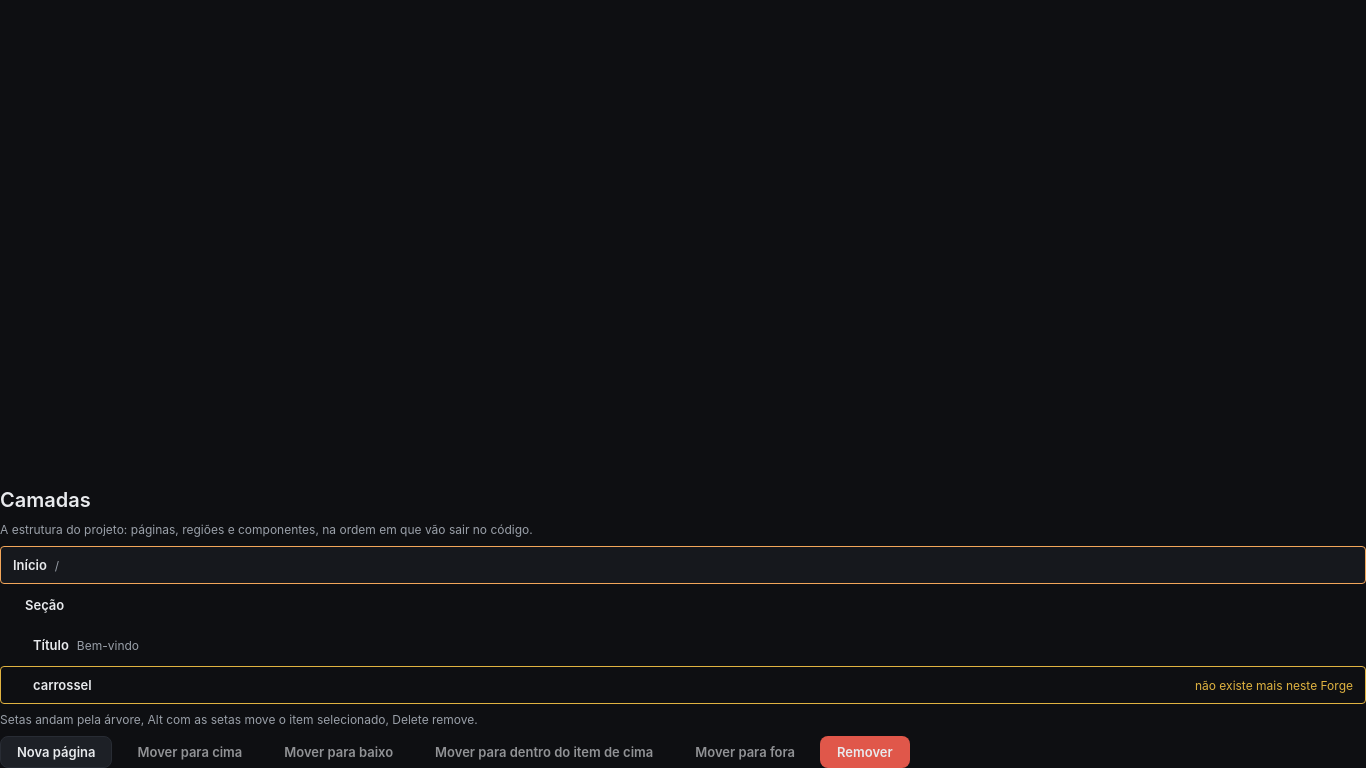
Scenario: remoção › cancelar fecha a pergunta sem remover nada
The width and height of the screenshot is (1366, 768).
(page scrolled)
Press Delete in the list item "Seção", box x1=25 y1=597 x2=64 y2=613
(page scrolled)
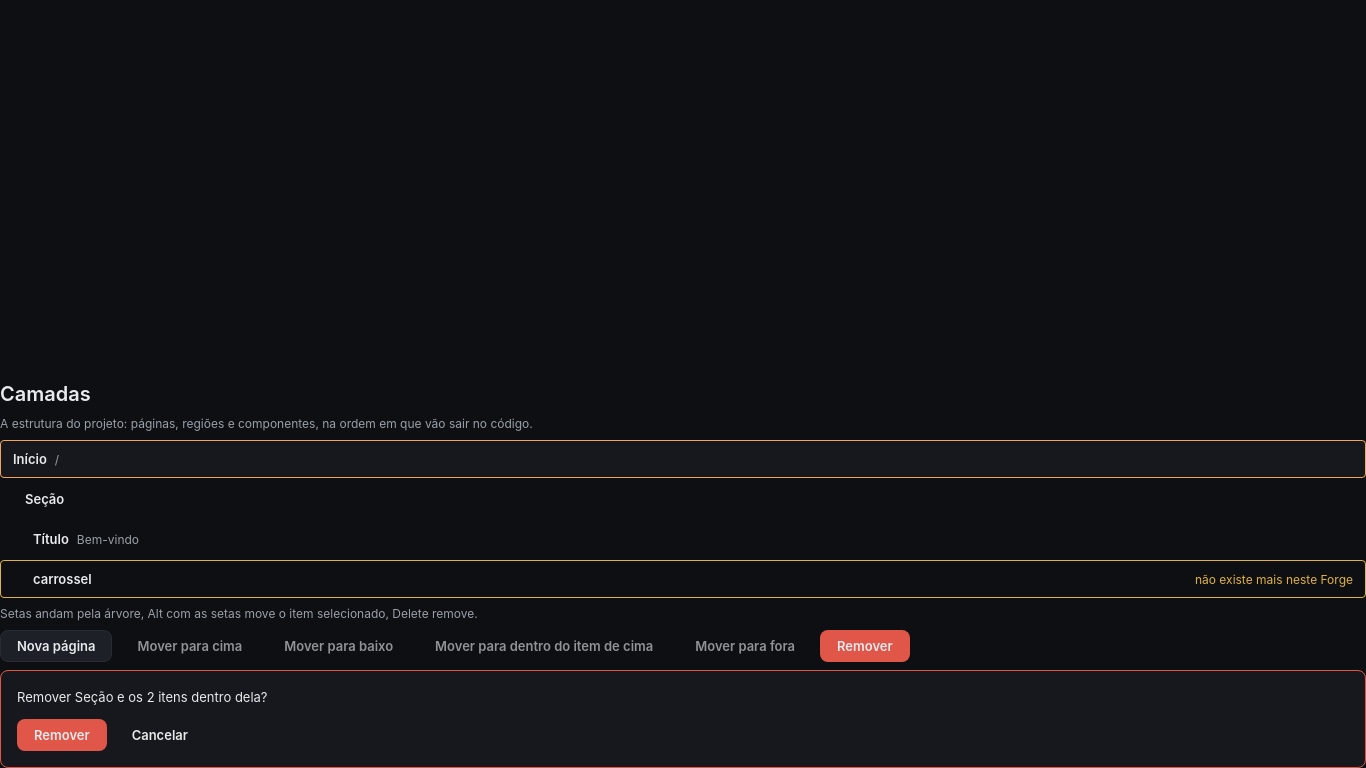
Click the button "Cancelar" at point(160, 735), box x1=115 y1=719 x2=205 y2=751
(page scrolled)
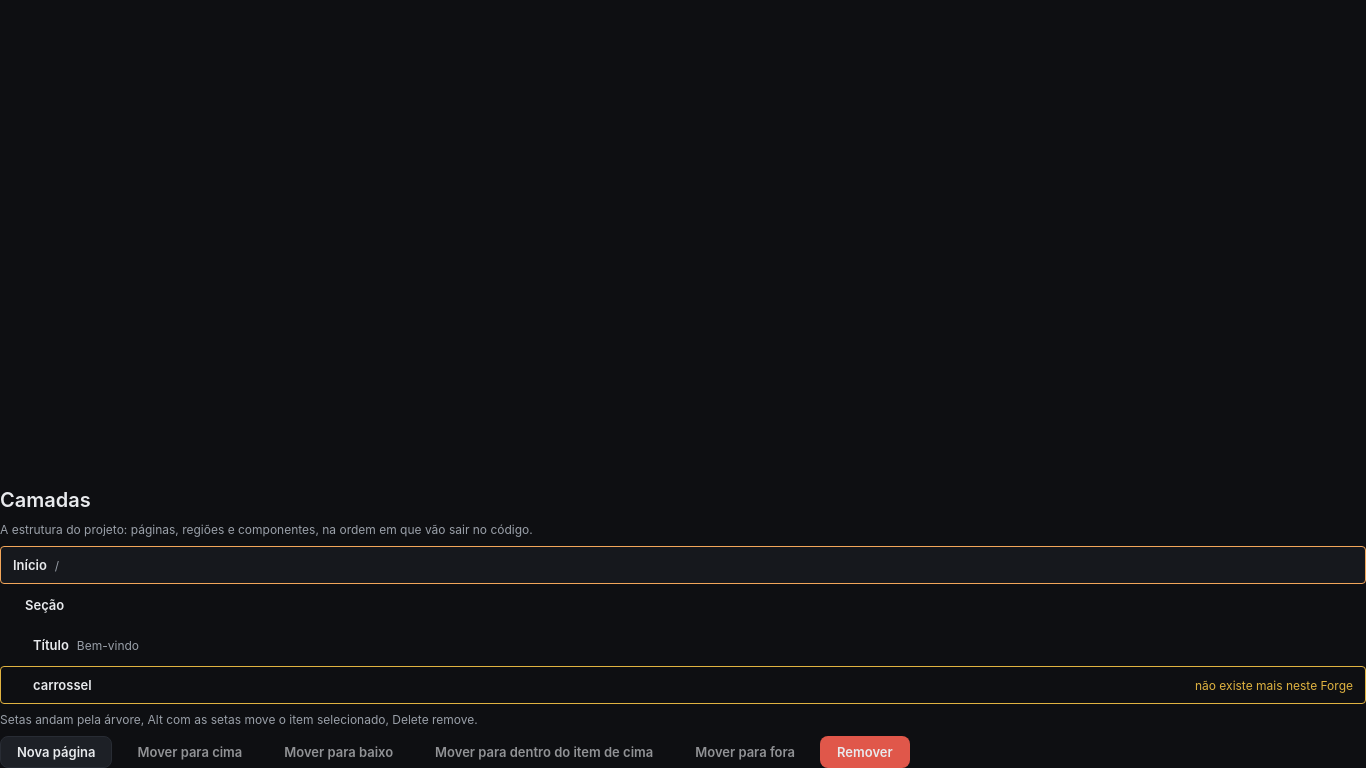
Check: the dialog is gone
